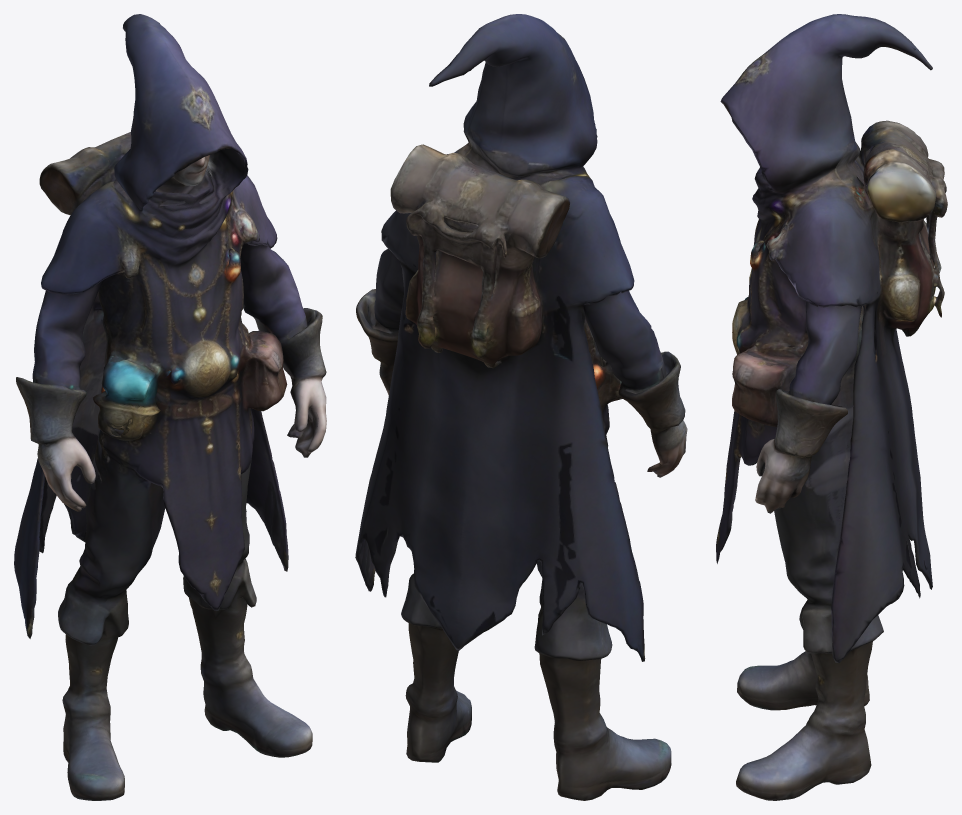
The model's file is battlemage_wizard.glb.
The picture shows the model from 3 angles, left to right: view 1: azimuth 30°, elevation 25°; view 2: azimuth 150°, elevation 25°; view 3: azimuth 270°, elevation 25°; orthographic projection. The views are drawn at different scales.
Visible parts, largest first — view 1: Object_4; view 2: Object_4; view 3: Object_4.
Part boxes in pixels (x1=…): Object_4: x1=14, y1=14, x2=326, y2=800; Object_4: x1=355, y1=14, x2=687, y2=800; Object_4: x1=716, y1=14, x2=947, y2=800.
Size of the model in its own units: 0.8656 by 2 by 0.576.
Materials: 1 (1 with a texture image).
